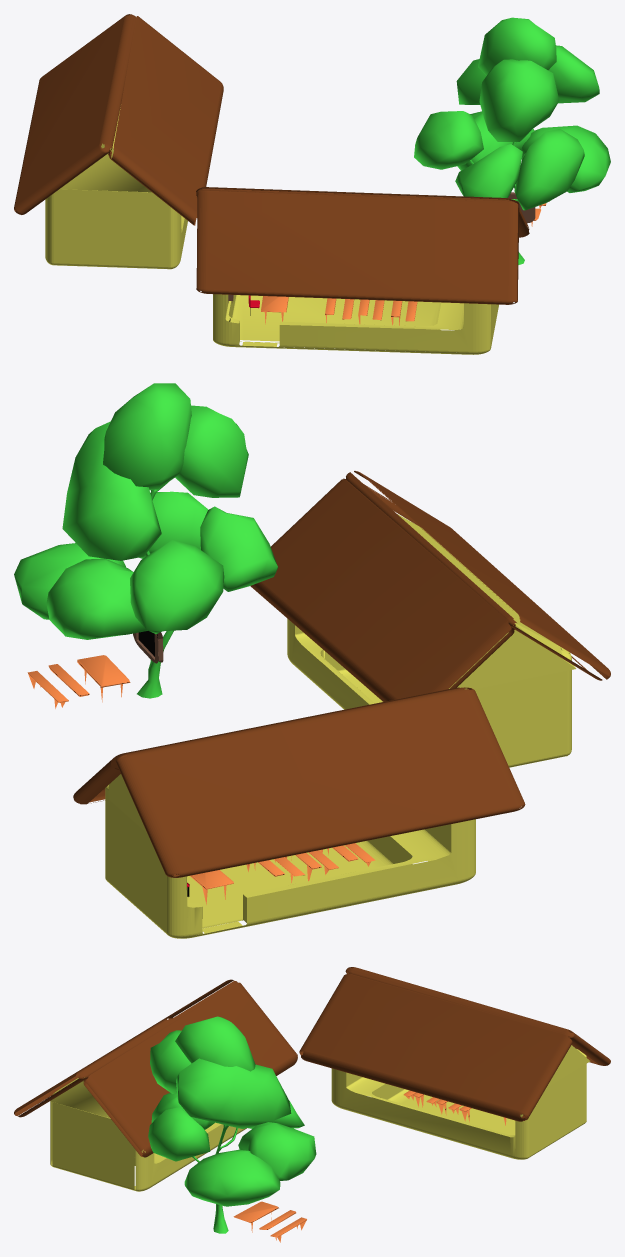
File: Villageschool.glb
3 views of the same model, one above another, from view 1: azimuth 30°, elevation 25°; view 2: azimuth 150°, elevation 25°; view 3: azimuth 270°, elevation 25° (orthographic). The views are drawn at different scales.
Parts seen in each view (by area): view 1: tree_001; view 2: tree_001; view 3: tree_001.
Boxes of the visible parts, box(x1,y1,x2,y2) form: tree_001: box(14, 14, 610, 354); tree_001: box(14, 383, 610, 938); tree_001: box(14, 967, 610, 1242).
Bounding box in the file's own units: 221 × 104 × 266.
1 material, 1 textured.
